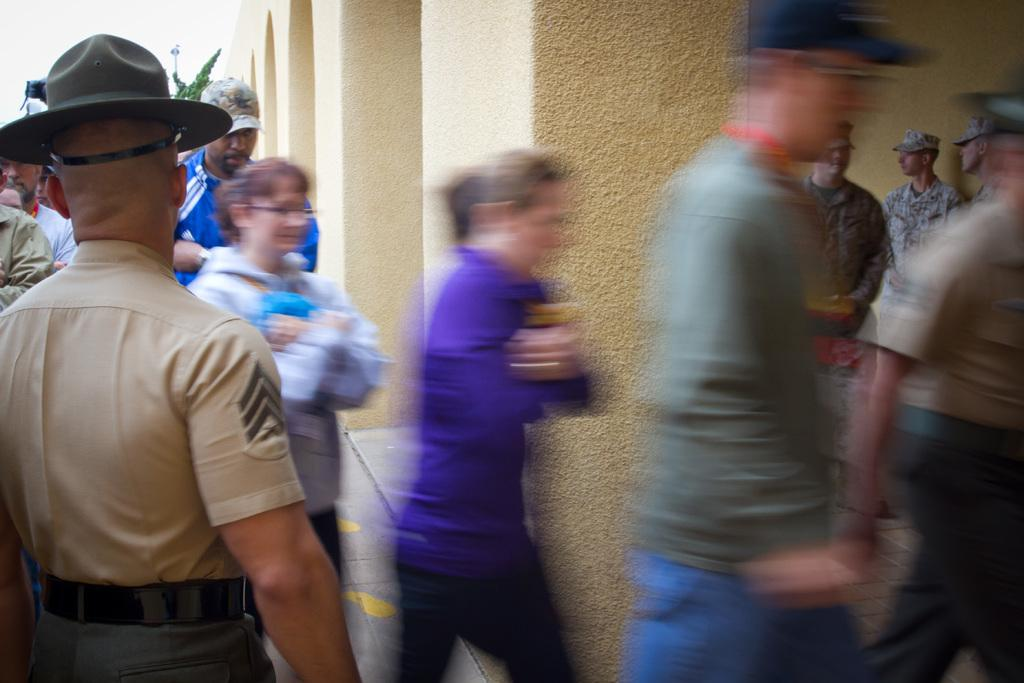Hat: (0, 30, 240, 164), (745, 0, 933, 70), (949, 90, 1023, 145), (198, 76, 264, 136), (889, 126, 940, 156), (818, 120, 862, 153), (952, 114, 981, 142)
